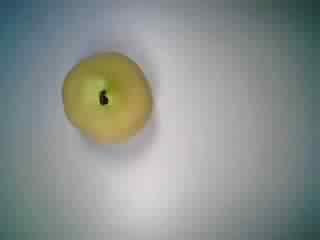pear: (46, 43, 157, 155)
